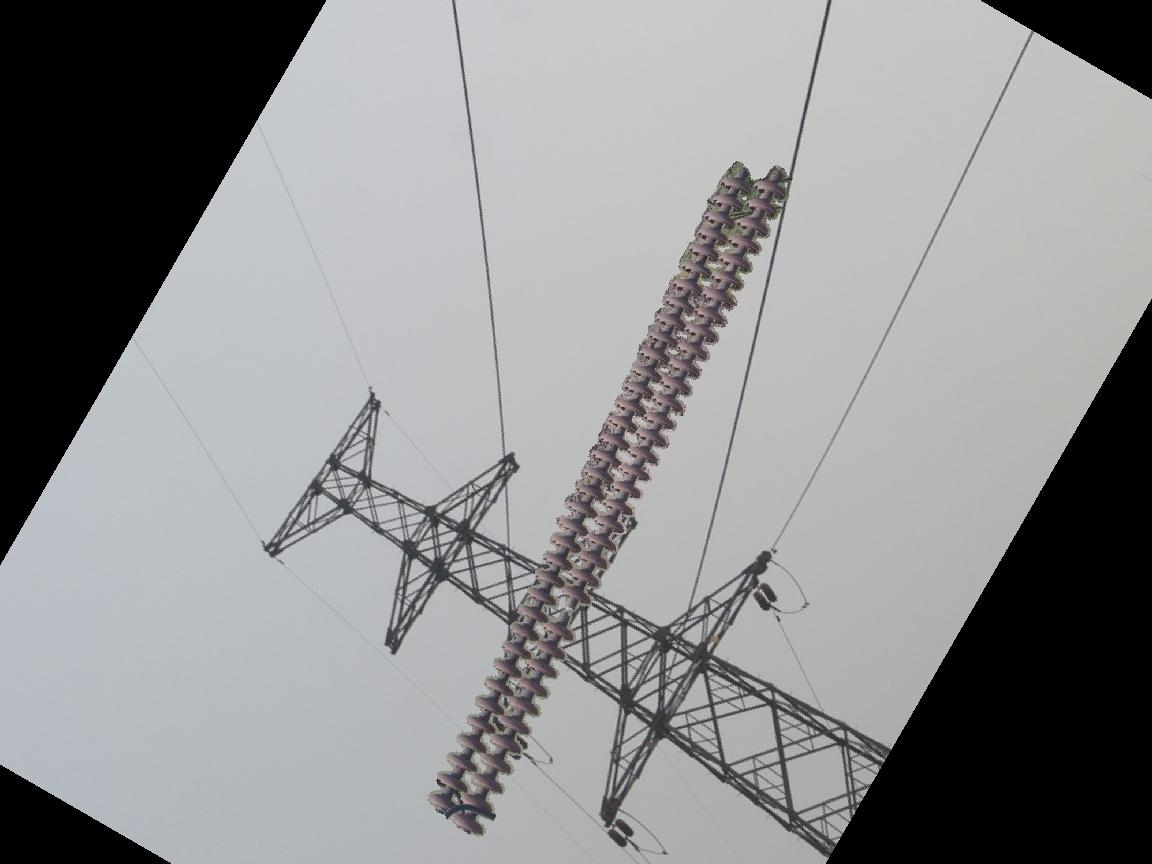insulator: (423, 160, 798, 839)
insulator_stringdrop: (536, 581, 596, 642)
